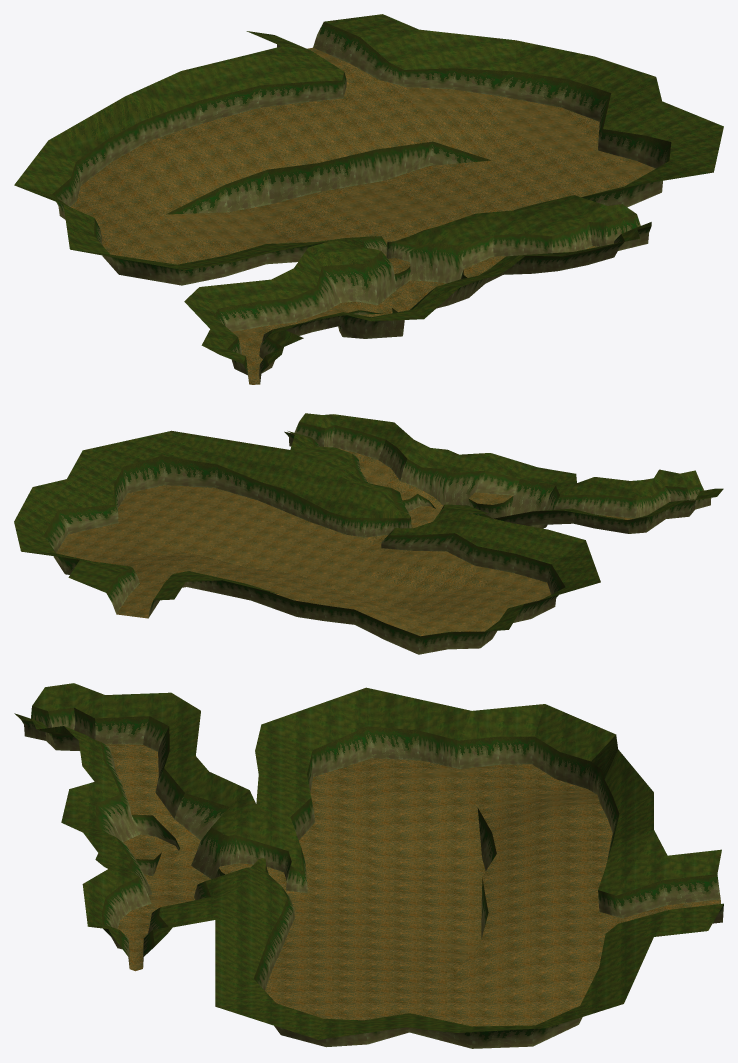
File: deepWoods.fbx
3 views of the same model, one above another, from view 1: azimuth 30°, elevation 25°; view 2: azimuth 150°, elevation 25°; view 3: azimuth 270°, elevation 25° (orthographic). The views are drawn at different scales.
Visible parts, largest first — view 1: polySurface5, polySurface1; view 2: polySurface5, polySurface1; view 3: polySurface5, polySurface1.
Part boxes in pixels (box(x1,y1,x2,y2)): polySurface5: box(14, 14, 723, 384); polySurface1: box(52, 22, 671, 383); polySurface5: box(14, 413, 723, 636); polySurface1: box(44, 422, 711, 654); polySurface5: box(14, 683, 723, 1039); polySurface1: box(21, 706, 723, 1048).
Size of the model in its own units: 380 by 49.33 by 338.
